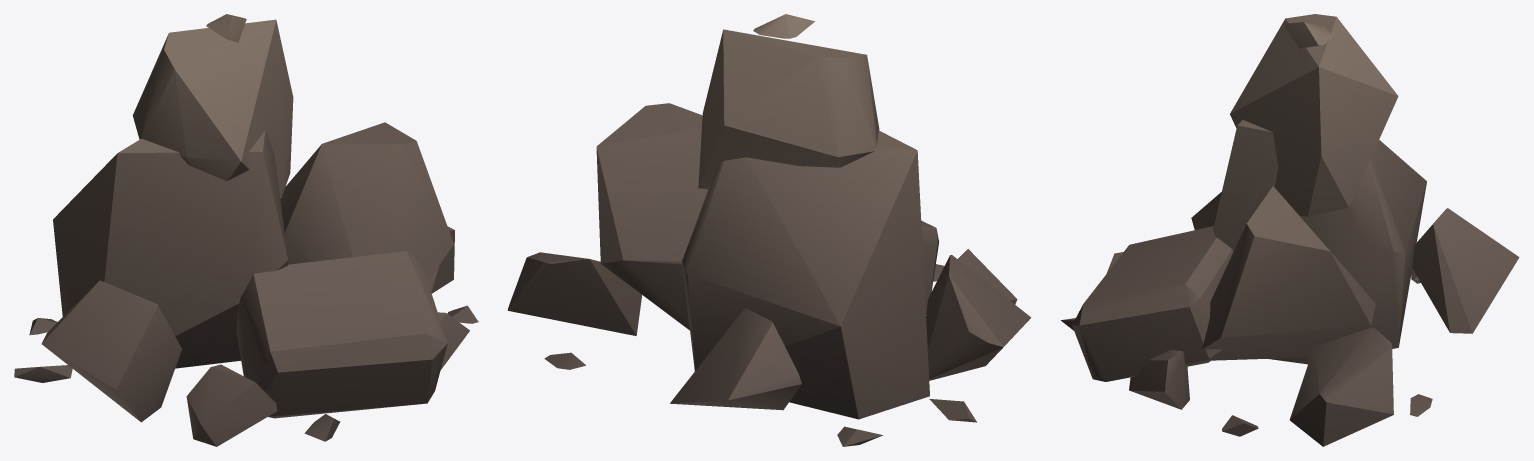
The model's file is rubble_boulders.glb.
3 views of the same model, side by side, from view 1: azimuth 30°, elevation 25°; view 2: azimuth 150°, elevation 25°; view 3: azimuth 270°, elevation 25° (orthographic). The views are drawn at different scales.
Visible parts, largest first — view 1: rubble_boulders; view 2: rubble_boulders; view 3: rubble_boulders.
Part boxes in pixels (x1,y1,x2,y2): rubble_boulders: [14, 14, 478, 446]; rubble_boulders: [507, 14, 1031, 446]; rubble_boulders: [1061, 14, 1519, 446].
Bounding box in the file's own units: 2.11 × 1.56 × 2.
Materials: 1 (1 with a texture image).
